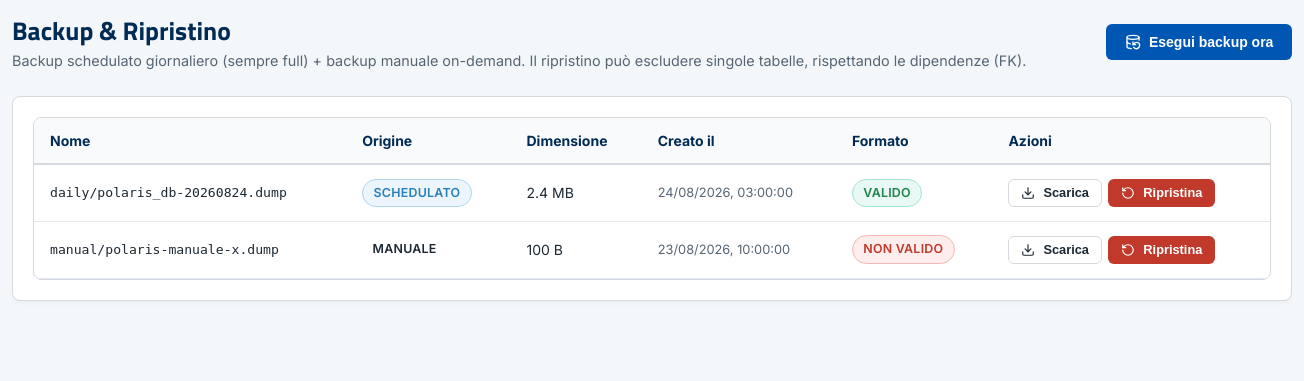
Test: BackupView › esegui backup ora: chiama eseguiBackupManuale, poi ricarica la lista
Check: the text "daily/polaris_db-20260824.dump" is shown, box left=34, top=164, right=346, bottom=221
Click the button "Esegui backup ora" at (1199, 42), box left=1106, top=24, right=1292, bottom=60
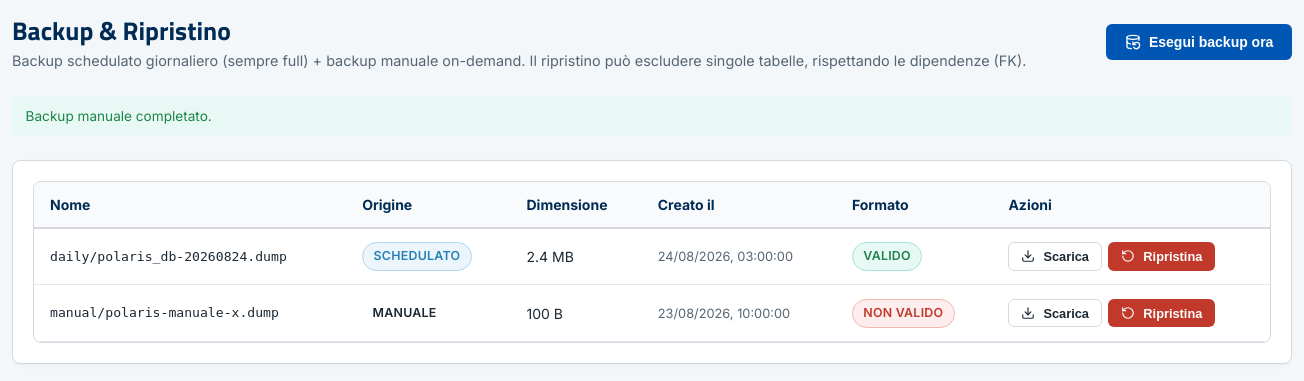
Check: the text "Backup manuale completato." is shown, box left=12, top=96, right=1292, bottom=136
